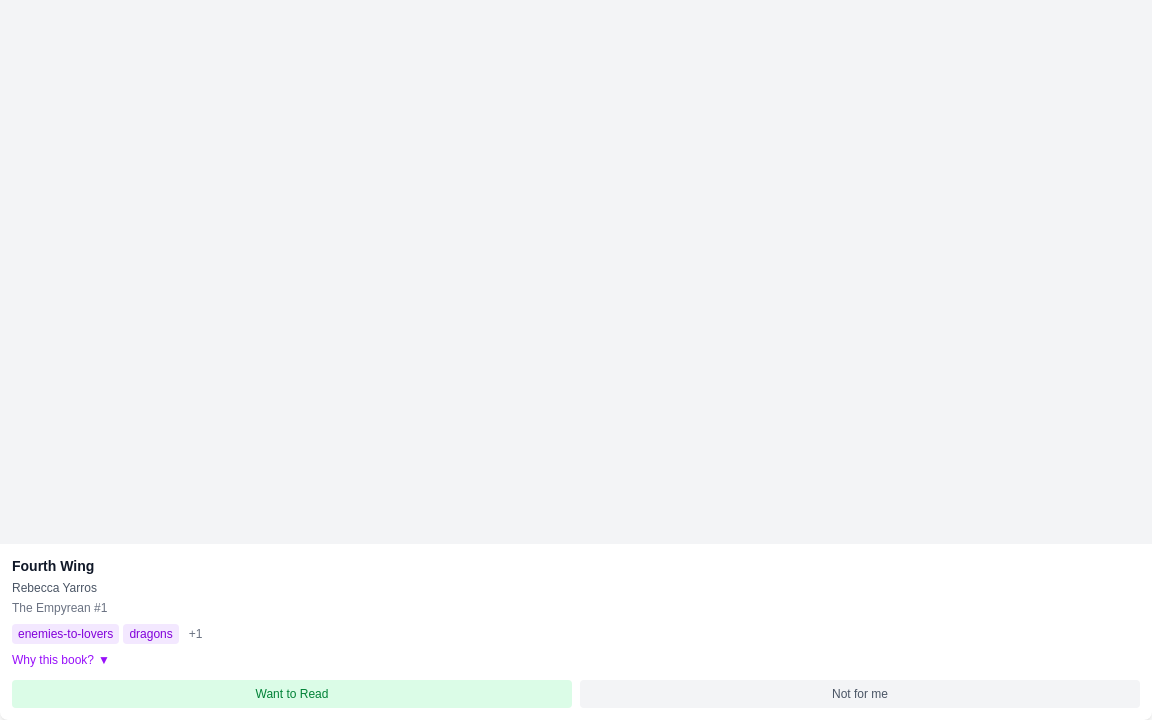
Test: RecommendationCard › feedback buttons › shows dismissed confirmation for not interested
(page scrolled)
Click the button "Not for me". click: [860, 694]
box: [580,680,1140,708]
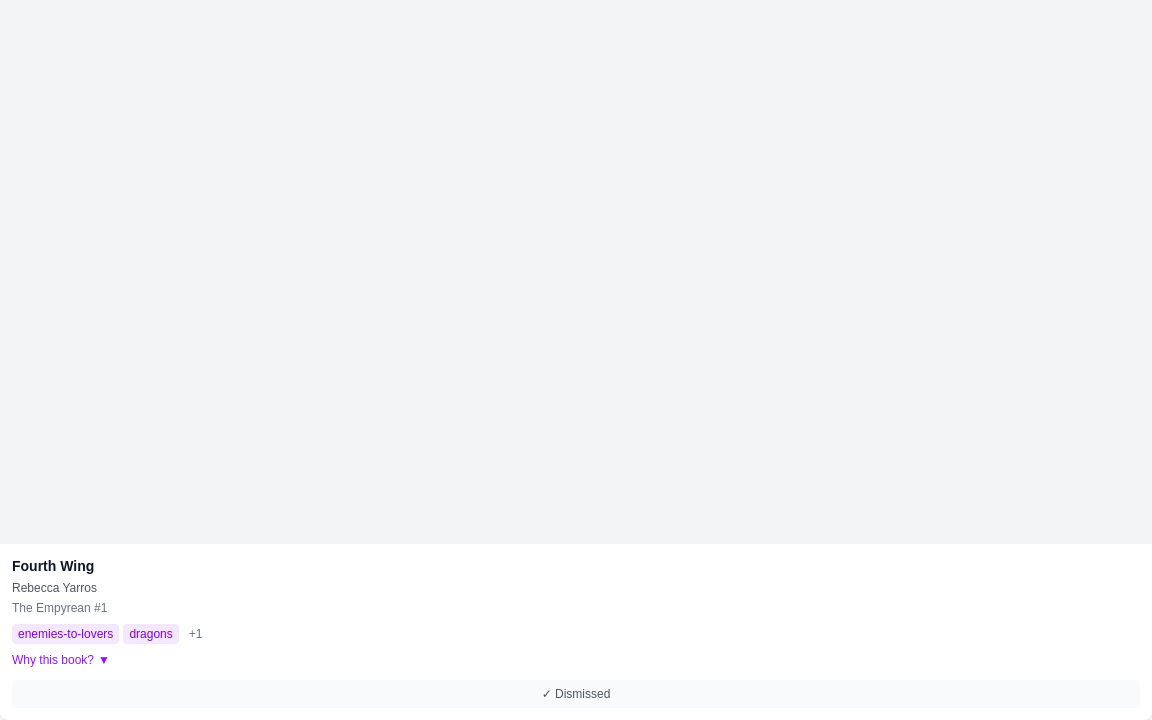
Now the text "✓ Dismissed" is shown, box [12,680,1140,708]
